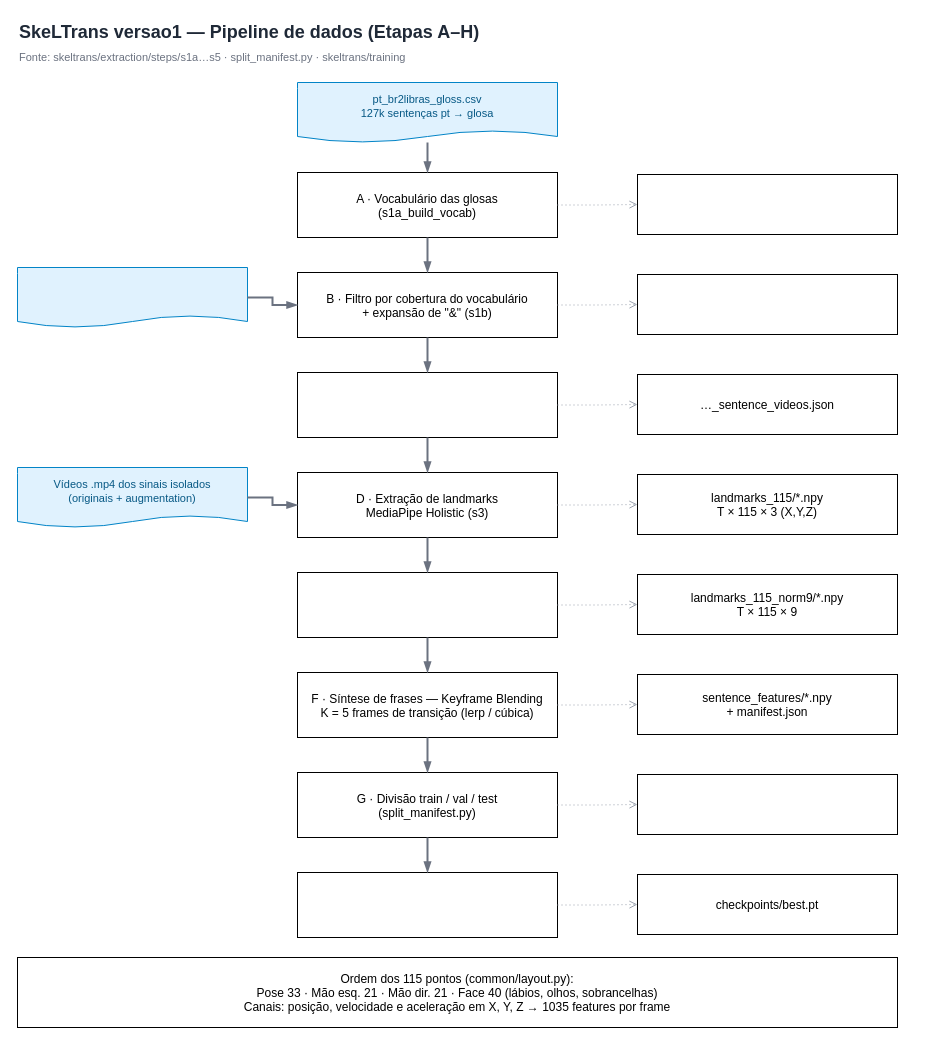
This 935x1045 diagram has some shape labels left out. The centre of each missing label's shape, as x and y in pixels:
C · Mapeamento sentença → vídeos (s2_build_sentence_videos): point 427,405
E · Normalização geométrica + velocidade e aceleração (s4): point 427,605
H · Treino do modelo SLT (aba "versao1 — Modelo SLT"): point 427,905
libras_gloss_vocab.txt: point 767,204
manifests de treino e validação: point 767,804
pt_br2libras_gloss_in_vocab.json: point 767,304
videos_words_by_word.json ~1.300 sinais (V-LIBRASIL): point 132,297
